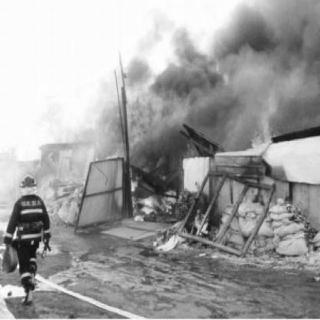Fire: (69, 127, 193, 221), (245, 112, 288, 154), (188, 200, 228, 237), (284, 194, 303, 220)
Smoke: (129, 9, 311, 141)
